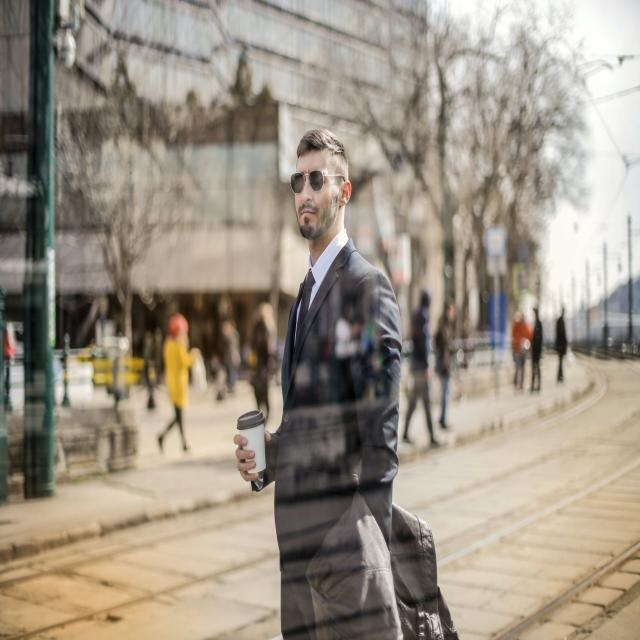cup: (235, 406, 271, 480)
